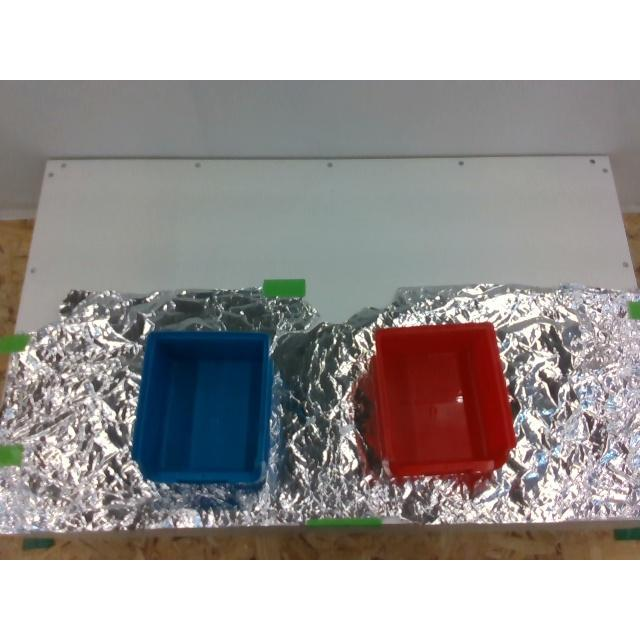container_box_blue: (133, 330, 271, 486)
container_box_red: (374, 324, 514, 476)
